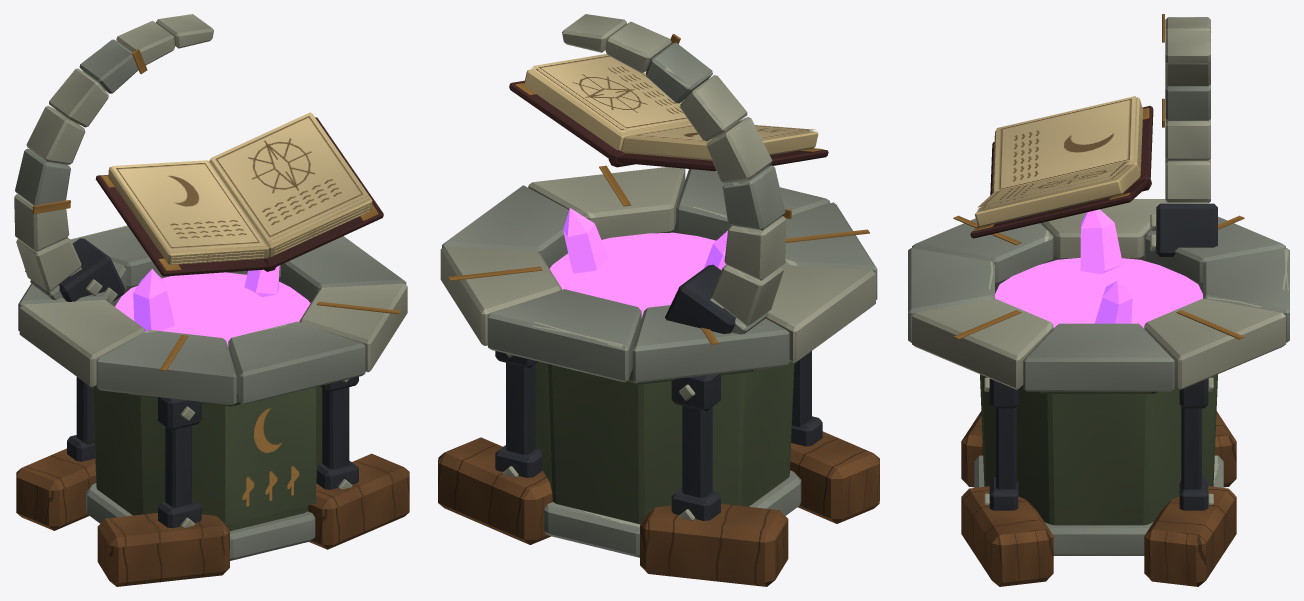
The model's file is Moonwell_Shrine.fbx.
3 renders of one model, left to right at view 1: azimuth 30°, elevation 25°; view 2: azimuth 150°, elevation 25°; view 3: azimuth 270°, elevation 25°, orthographic. The views are drawn at different scales.
Visible parts, largest first — view 1: Moonwell_Body, Moonwell_Book, Moonwell_Page, Moonwell_Crystals; view 2: Moonwell_Body, Moonwell_Crystals, Moonwell_Book, Moonwell_Page; view 3: Moonwell_Body, Moonwell_Book, Moonwell_Crystals, Moonwell_Page.
Boxes of the visible parts, x1,y1,x2,y2 form: Moonwell_Body: (14, 14, 409, 586); Moonwell_Book: (95, 113, 383, 276); Moonwell_Page: (210, 112, 367, 241); Moonwell_Crystals: (115, 265, 310, 346); Moonwell_Body: (438, 14, 879, 586); Moonwell_Crystals: (549, 208, 727, 318); Moonwell_Book: (509, 67, 828, 171); Moonwell_Page: (533, 54, 688, 131); Moonwell_Body: (908, 14, 1289, 586); Moonwell_Book: (970, 96, 1153, 238); Moonwell_Crystals: (995, 209, 1202, 328); Moonwell_Page: (977, 160, 1131, 207).
Size of the model in its own units: 1.67 by 2.32 by 1.67.
Materials: 2 (1 with a texture image).
